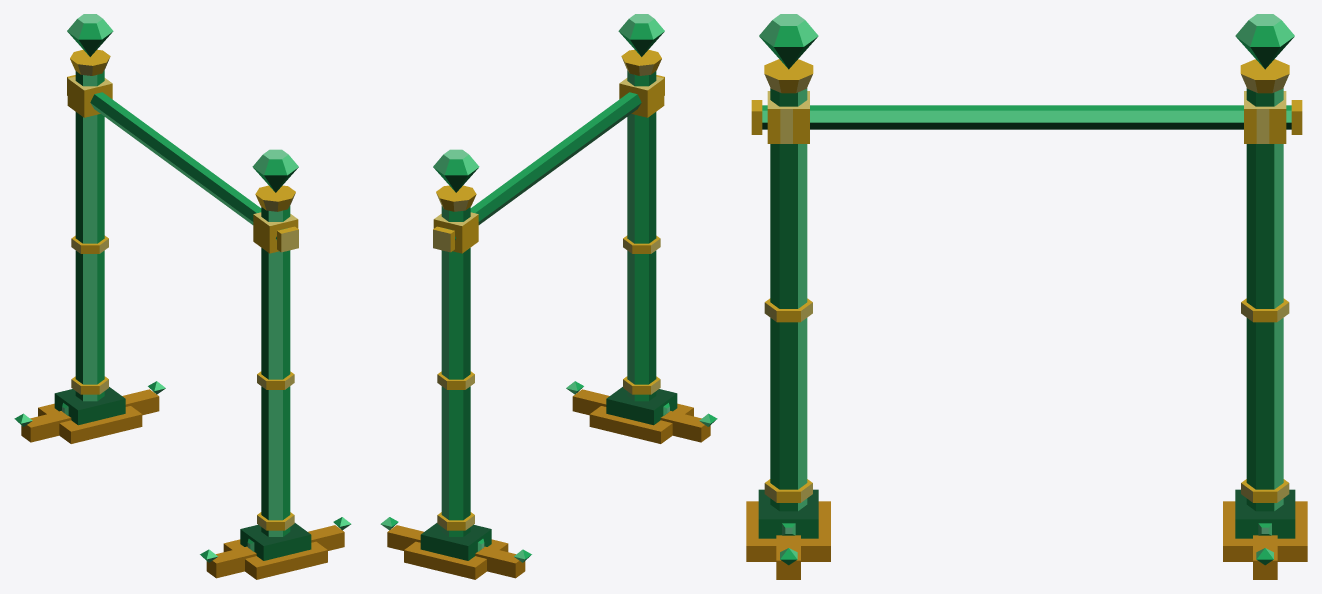
File: bar_emerald.glb
The picture shows the model from 3 angles, left to right: view 1: azimuth 30°, elevation 25°; view 2: azimuth 150°, elevation 25°; view 3: azimuth 270°, elevation 25°; orthographic projection. The views are drawn at different scales.
Parts seen in each view (by area): view 1: bar_emerald; view 2: bar_emerald; view 3: bar_emerald.
Boxes of the visible parts, <box> form: bar_emerald: <box>14,14,351,579</box>; bar_emerald: <box>380,14,717,579</box>; bar_emerald: <box>746,14,1307,579</box>.
Size of the model in its own units: 1.22 by 3.25 by 3.18.
